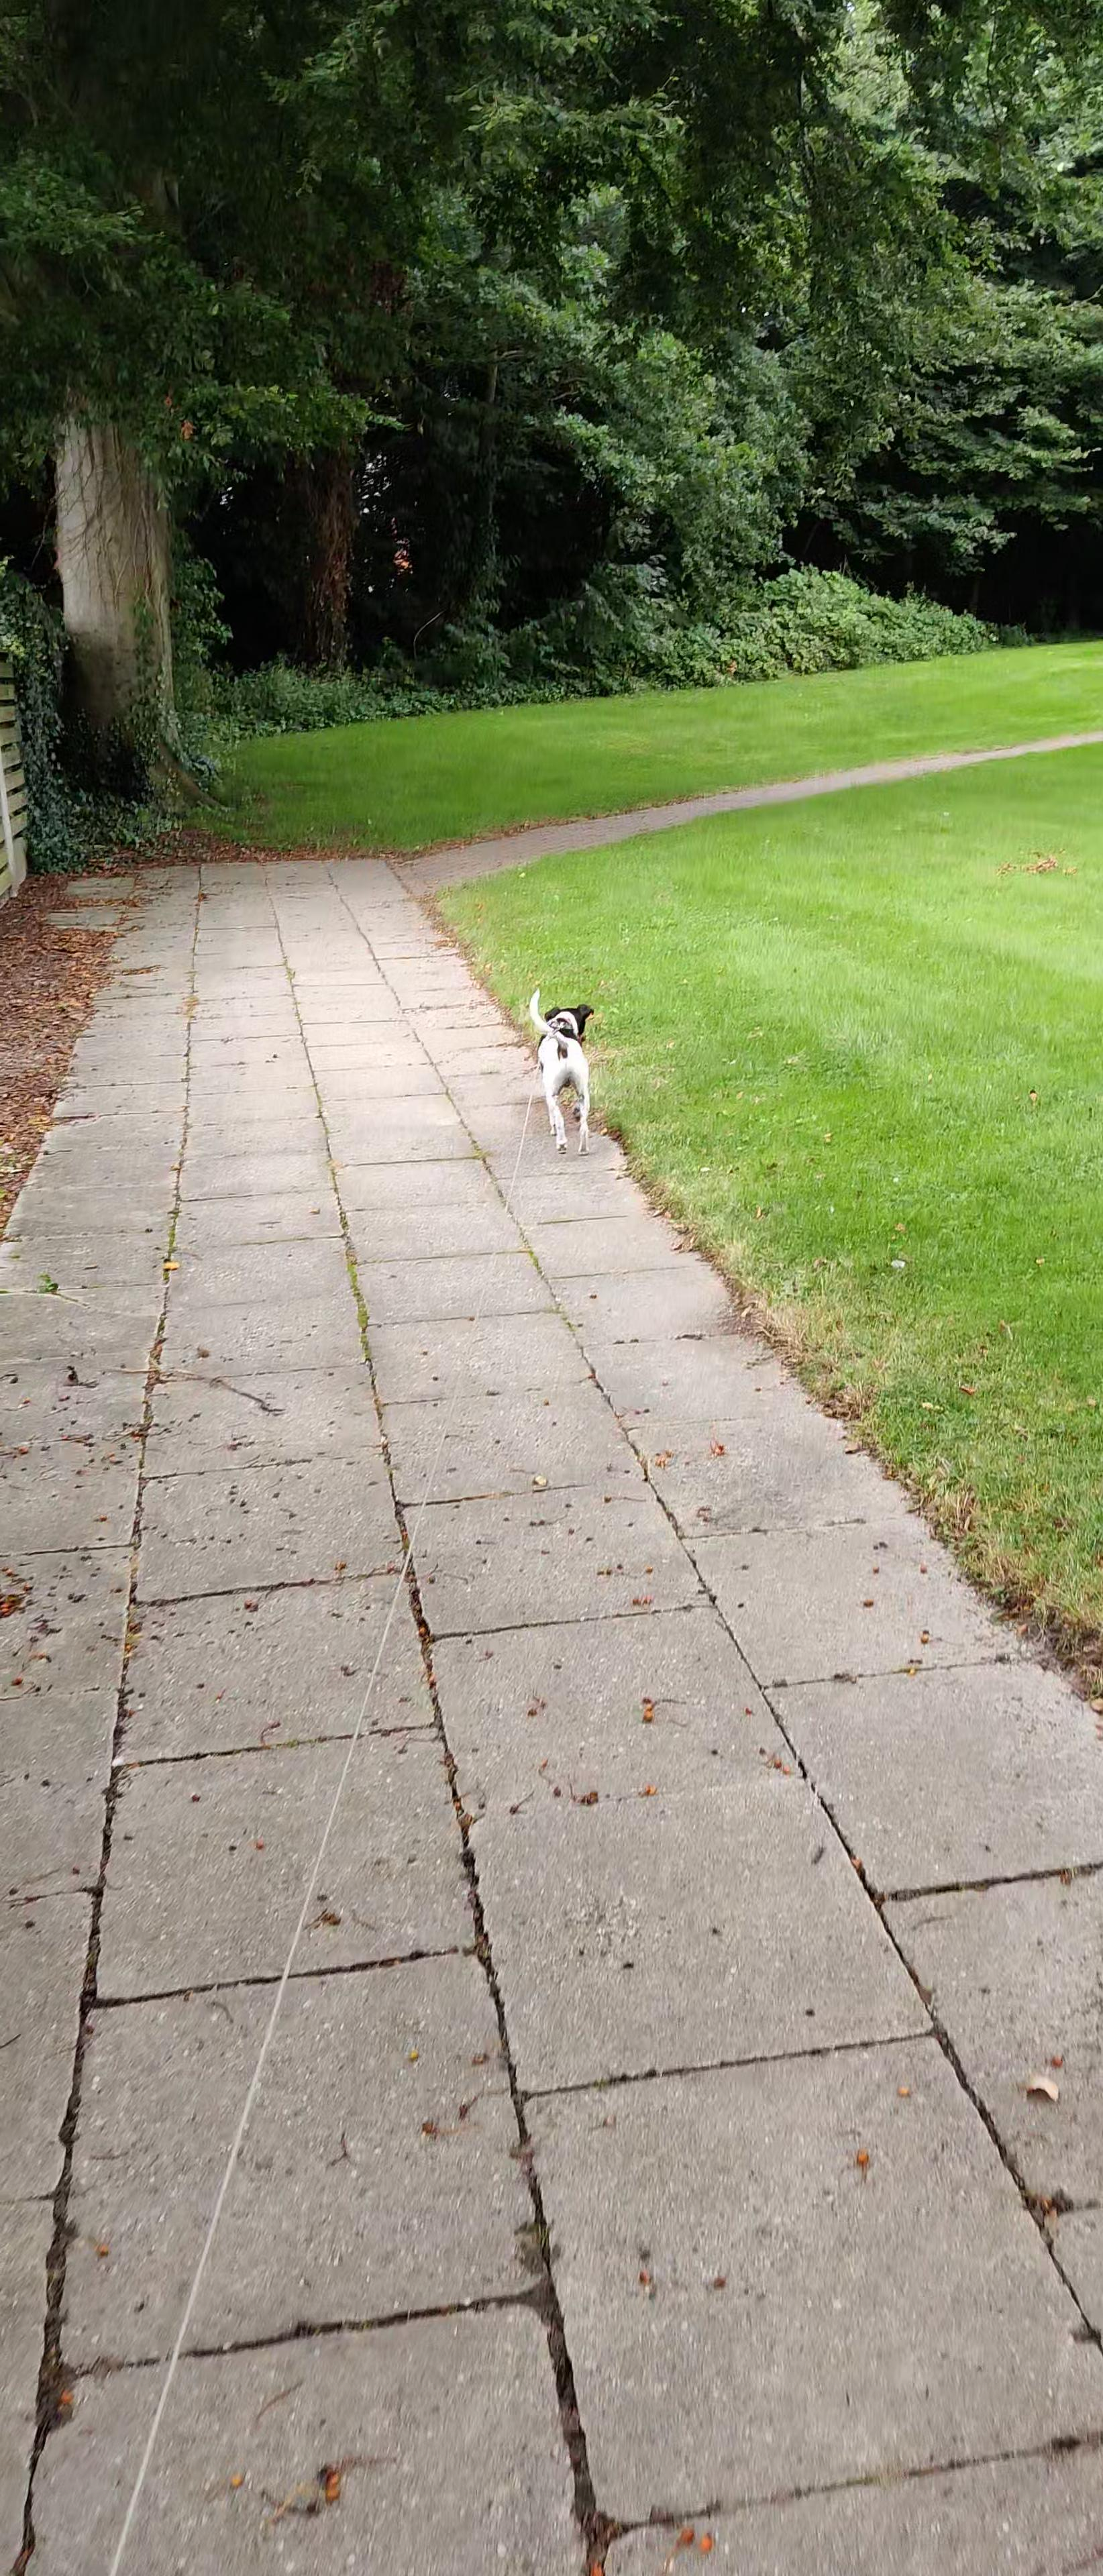Dog: (518, 969, 613, 1166)
